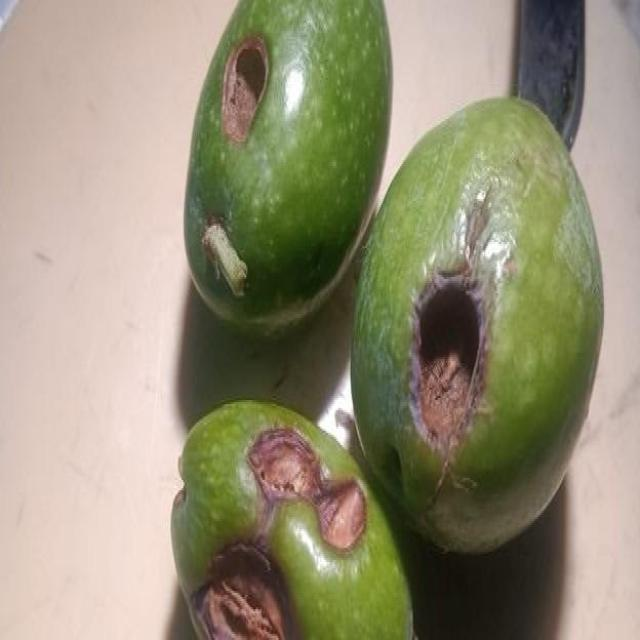Olive Fruit Fly: (352, 98, 603, 552), (184, 0, 392, 338), (172, 400, 417, 638)
